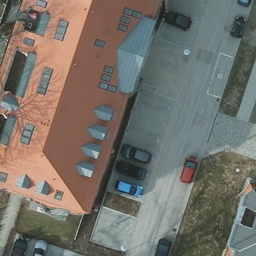car: (161, 8, 194, 32), (110, 181, 145, 197), (117, 163, 148, 180), (122, 144, 150, 162), (182, 154, 196, 183), (229, 15, 245, 39)
